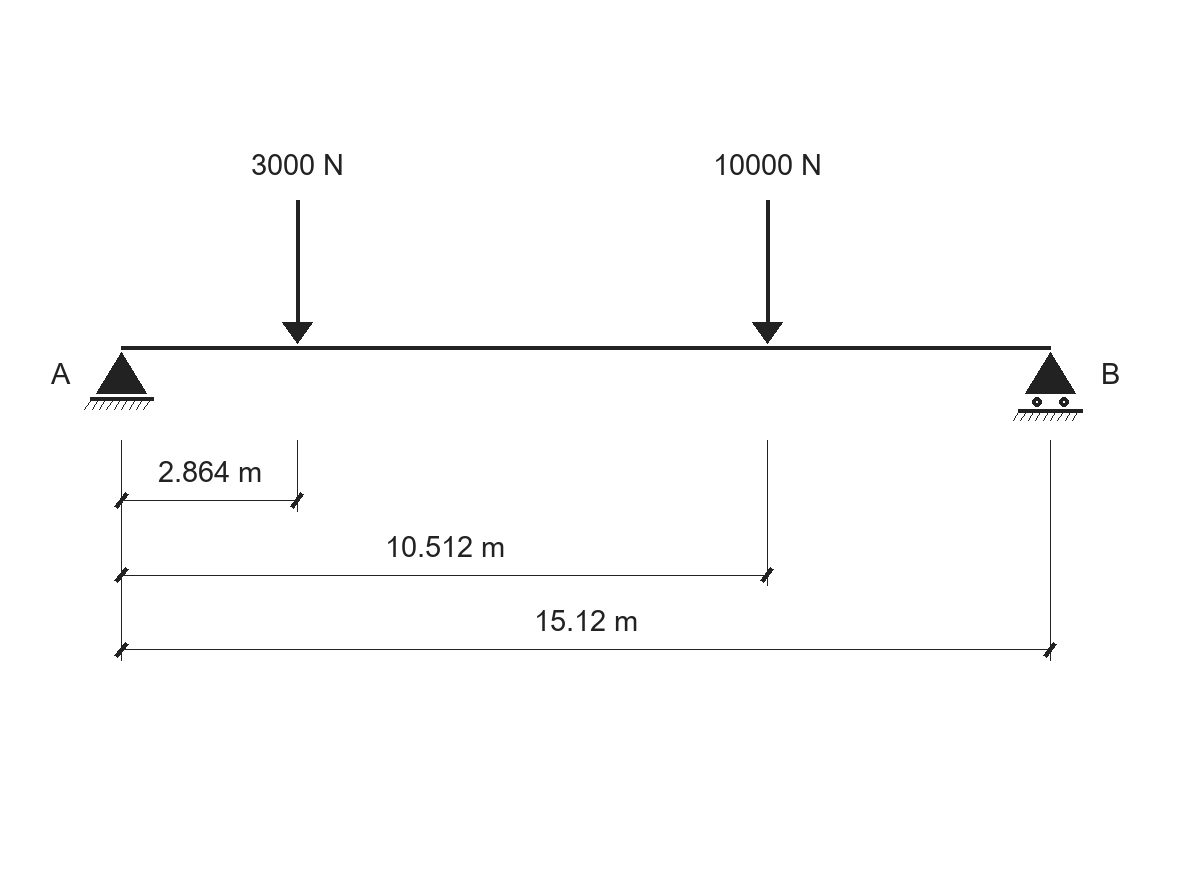pin_support: (84, 352, 154, 410)
point_load: (282, 200, 313, 344), (752, 200, 783, 344)
roller_support: (1013, 352, 1083, 421)
